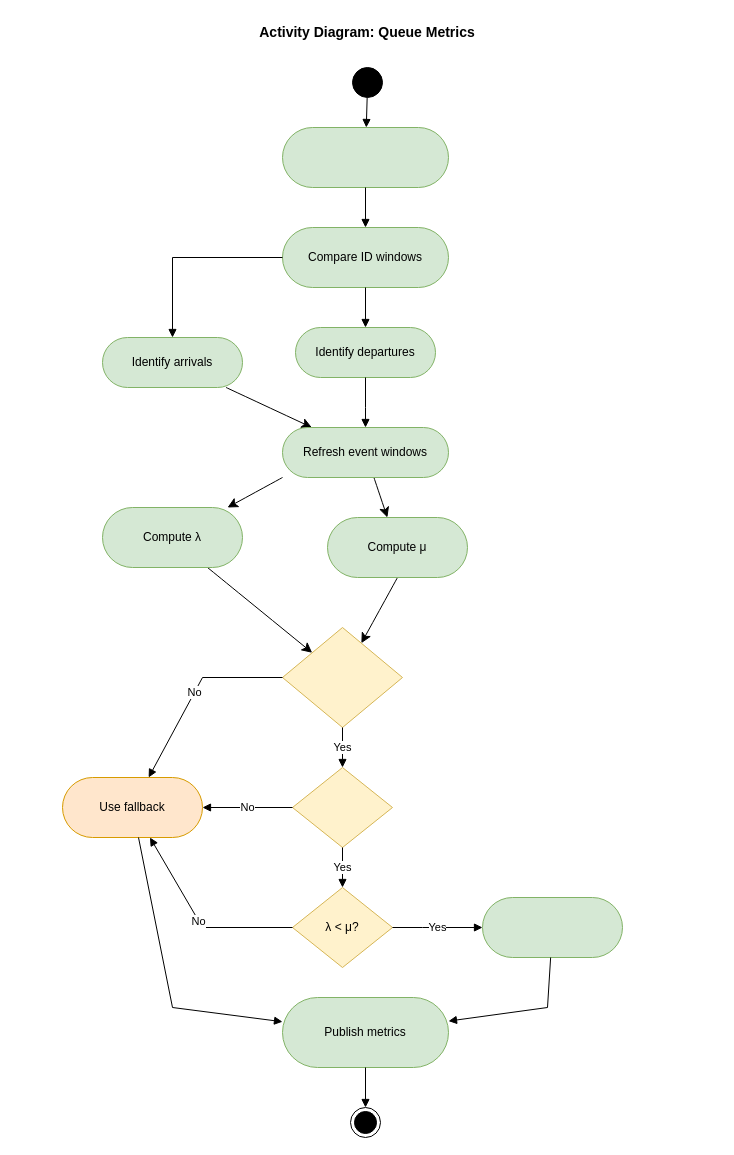
Some shapes in this 734 by 1155 pixel diagram are drawn without their labels. Here are the shapes that lost their labels. From the top down, the centre of each, then its label:
At [365,157]: "Receive tracked IDs".
At [342,677]: "Enough events?".
At [342,807]: "μ > 0?".
At [552,927]: "Use M/M/1 W = 1/(μ-λ)".
